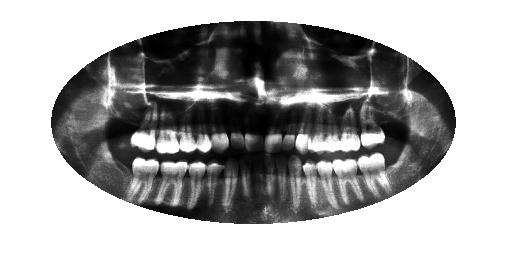Fillings: (361, 111, 388, 148), (340, 111, 359, 152), (179, 118, 196, 154), (198, 116, 212, 153)
